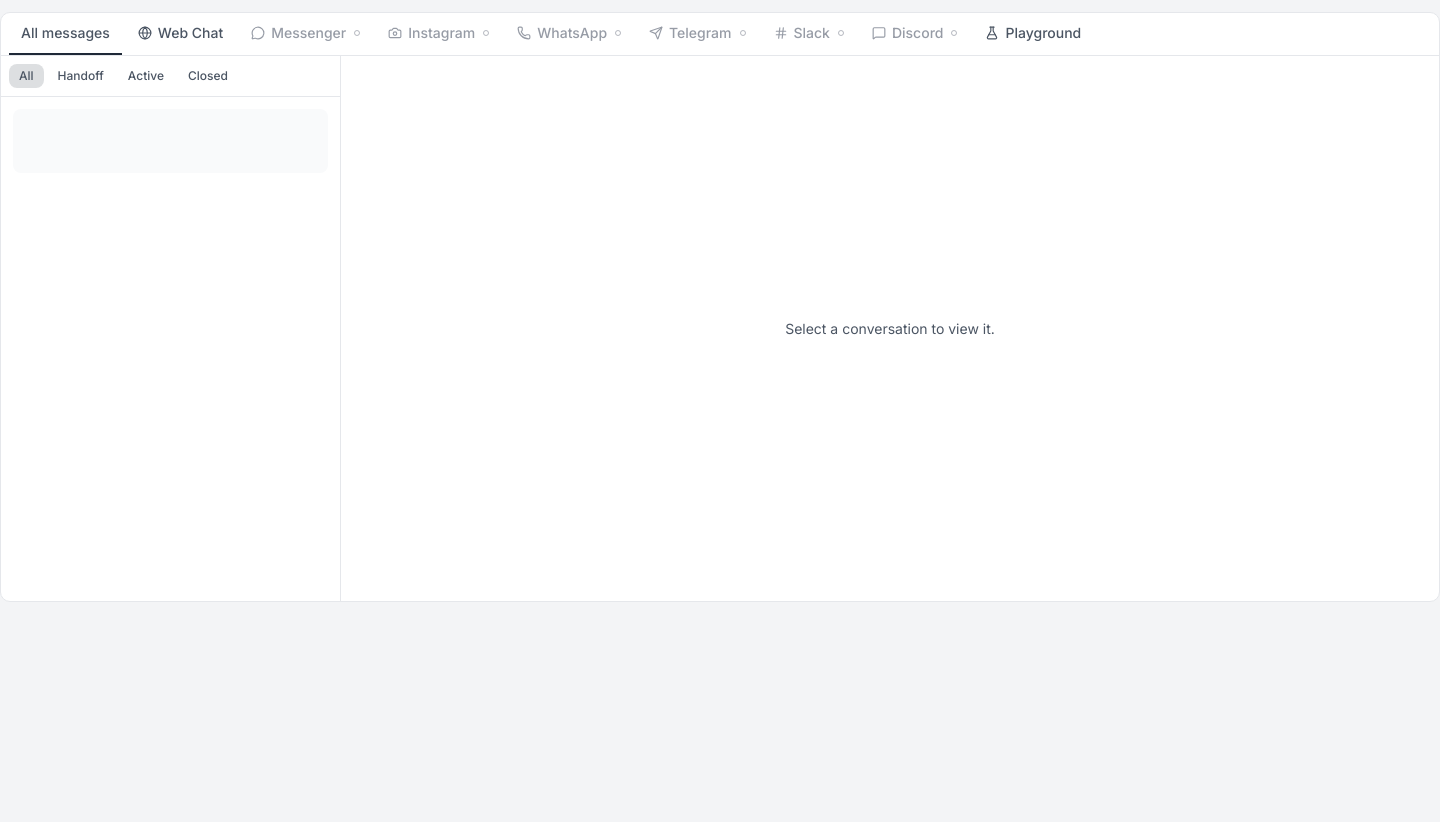
Test: not-connected channel state › never shows the prompt on All messages or Web Chat
The width and height of the screenshot is (1440, 822).
Click the tab "Web Chat" at (180, 34), box [126,13,235,55]
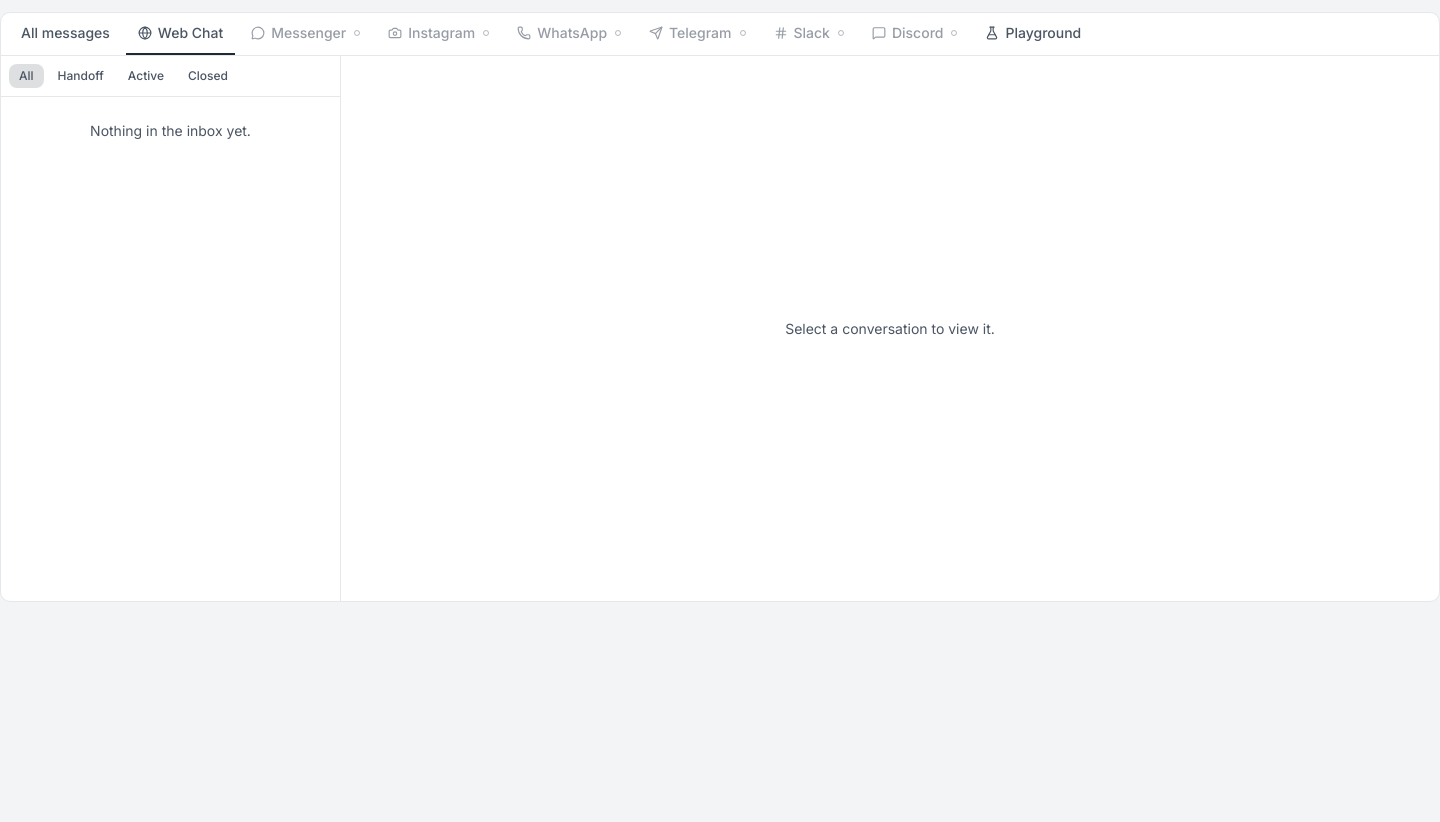
expect the text "Nothing in the inbox yet." is shown: met, box [90,122,251,139]
